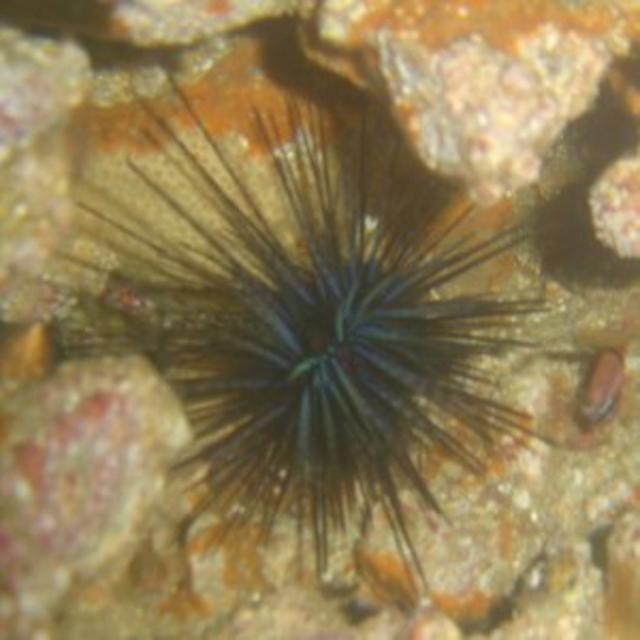Urchin: (51, 56, 558, 582)
